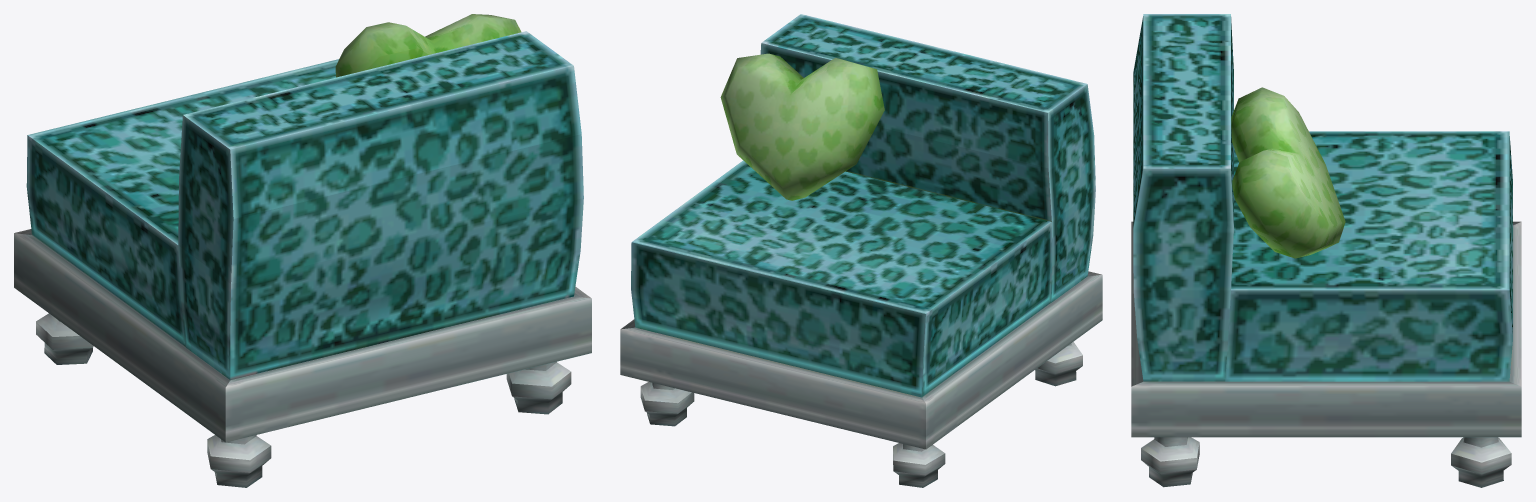
File: furni_0200096_03.FBX
3 renders of one model, left to right at view 1: azimuth 30°, elevation 25°; view 2: azimuth 150°, elevation 25°; view 3: azimuth 270°, elevation 25°, orthographic. The views are drawn at different scales.
Visible parts, largest first — view 1: furni_0200096_03; view 2: furni_0200096_03; view 3: furni_0200096_03.
Boxes of the visible parts, <box> form: furni_0200096_03: <box>14,14,591,487</box>; furni_0200096_03: <box>620,14,1102,487</box>; furni_0200096_03: <box>1131,14,1521,487</box>.
Bounding box in the file's own units: 81.16 × 76.1 × 80.
